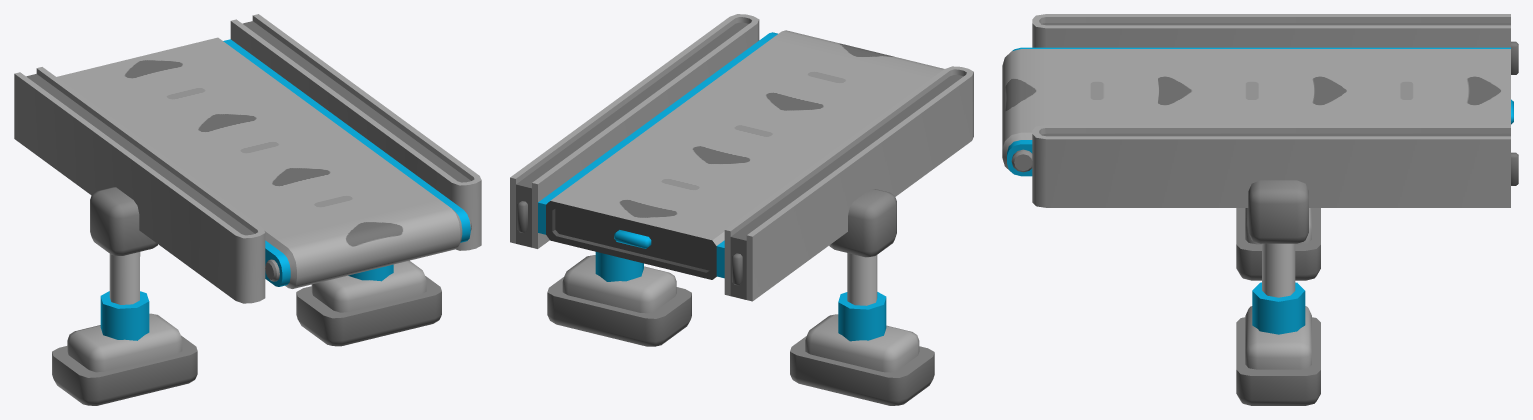
File: Conveyor_Belt_2nd_S01_Cap_S.fbx
3 views of the same model, side by side, from view 1: azimuth 30°, elevation 25°; view 2: azimuth 150°, elevation 25°; view 3: azimuth 270°, elevation 25° (orthographic). The views are drawn at different scales.
Visible parts, largest first — view 1: Conveyor_Belt_2nd_S01_Cap_S; view 2: Conveyor_Belt_2nd_S01_Cap_S; view 3: Conveyor_Belt_2nd_S01_Cap_S.
Boxes of the visible parts, x1,y1,x2,y2 form: Conveyor_Belt_2nd_S01_Cap_S: (14, 14, 481, 405); Conveyor_Belt_2nd_S01_Cap_S: (510, 14, 973, 405); Conveyor_Belt_2nd_S01_Cap_S: (1002, 14, 1518, 405).
Size of the model in its own units: 189 by 115 by 222.
